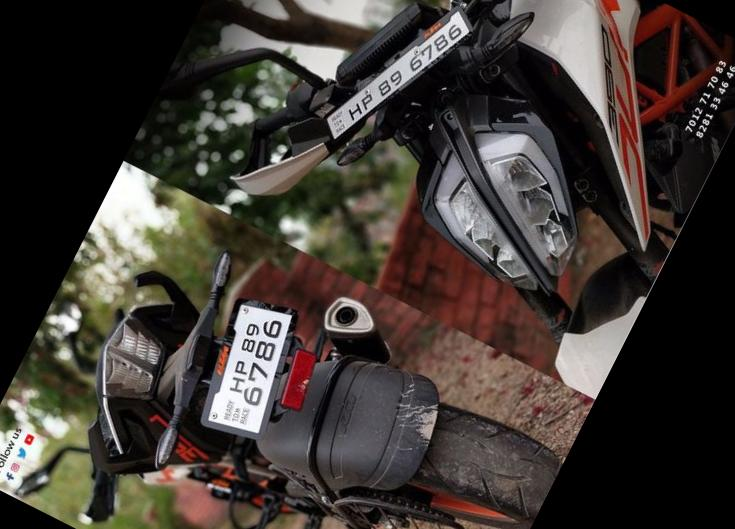plate: (194, 298, 304, 445)
